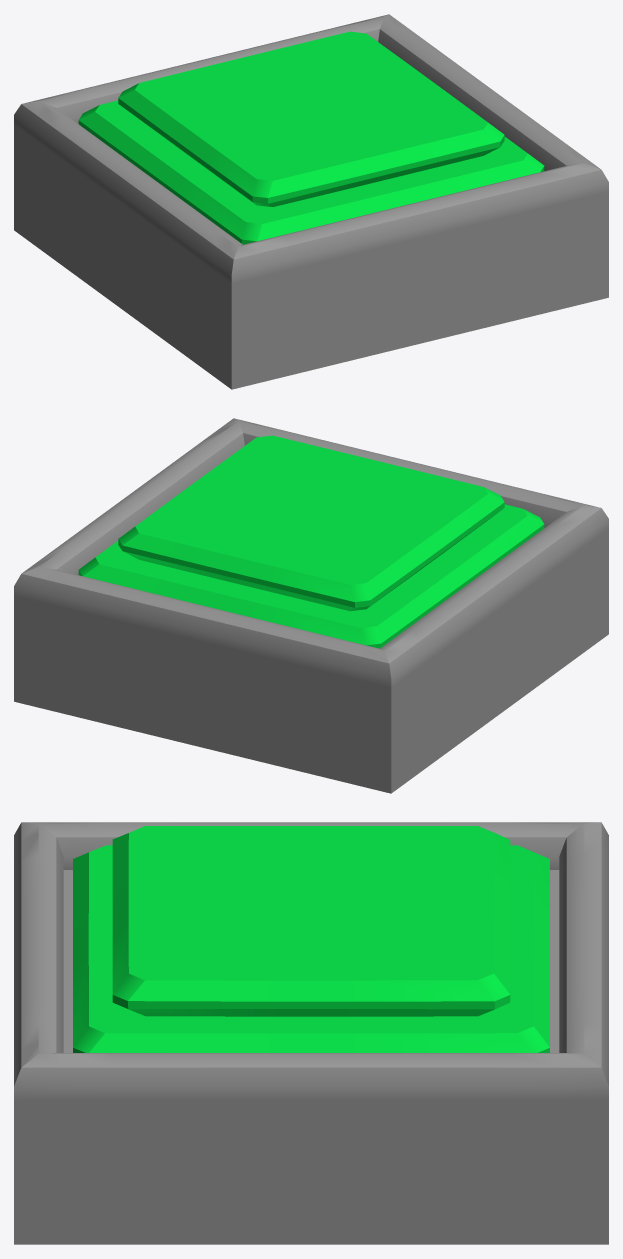
Rendered from Button_Green.fbx.
3 renders of one model, top to bottom at view 1: azimuth 30°, elevation 25°; view 2: azimuth 150°, elevation 25°; view 3: azimuth 270°, elevation 25°, orthographic. The views are drawn at different scales.
Parts seen in each view (by area): view 1: Button_Green, Button_Face_Green; view 2: Button_Green, Button_Face_Green; view 3: Button_Green, Button_Face_Green.
Part boxes in pixels (box(x1,y1,x2,y2)): Button_Green: box(14, 14, 608, 389); Button_Face_Green: box(78, 31, 544, 244); Button_Green: box(14, 418, 608, 793); Button_Face_Green: box(78, 435, 544, 648); Button_Green: box(14, 822, 608, 1244); Button_Face_Green: box(73, 826, 549, 1052).
Size of the model in its own units: 3.74 by 1.5 by 3.74.
